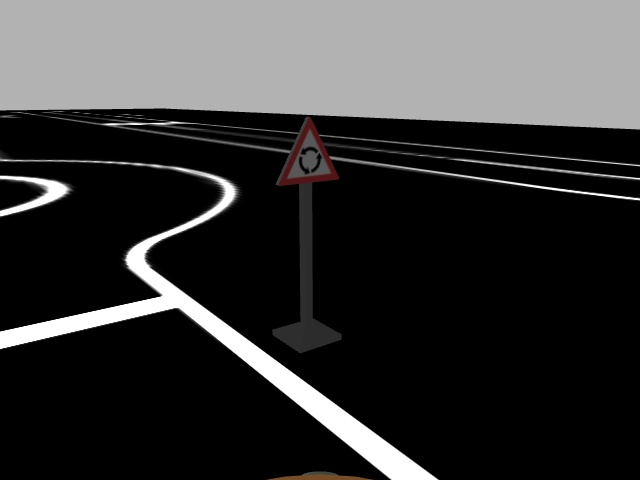roundabout: (273, 117, 340, 187)
